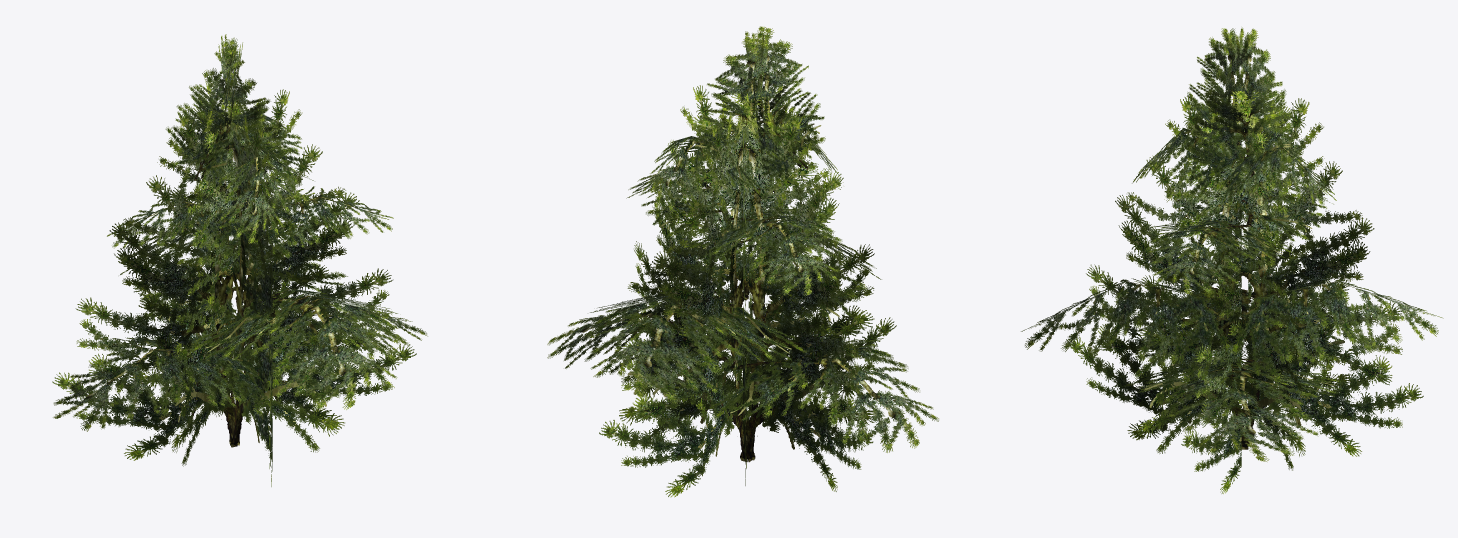
Rendered from cedar_atlas_sapling_1.glb.
3 views of the same model, side by side, from view 1: azimuth 30°, elevation 25°; view 2: azimuth 150°, elevation 25°; view 3: azimuth 270°, elevation 25° (orthographic). The views are drawn at different scales.
Parts seen in each view (by area): view 1: cedar_atlas_sapling_1; view 2: cedar_atlas_sapling_1; view 3: cedar_atlas_sapling_1.
Part boxes in pixels (x1=…): cedar_atlas_sapling_1: x1=52, y1=34, x2=427, y2=486; cedar_atlas_sapling_1: x1=547, y1=26, x2=938, y2=497; cedar_atlas_sapling_1: x1=1021, y1=27, x2=1443, y2=493.
Bounding box in the file's own units: 9.68 × 10.81 × 9.91.
1 material, 1 textured.
